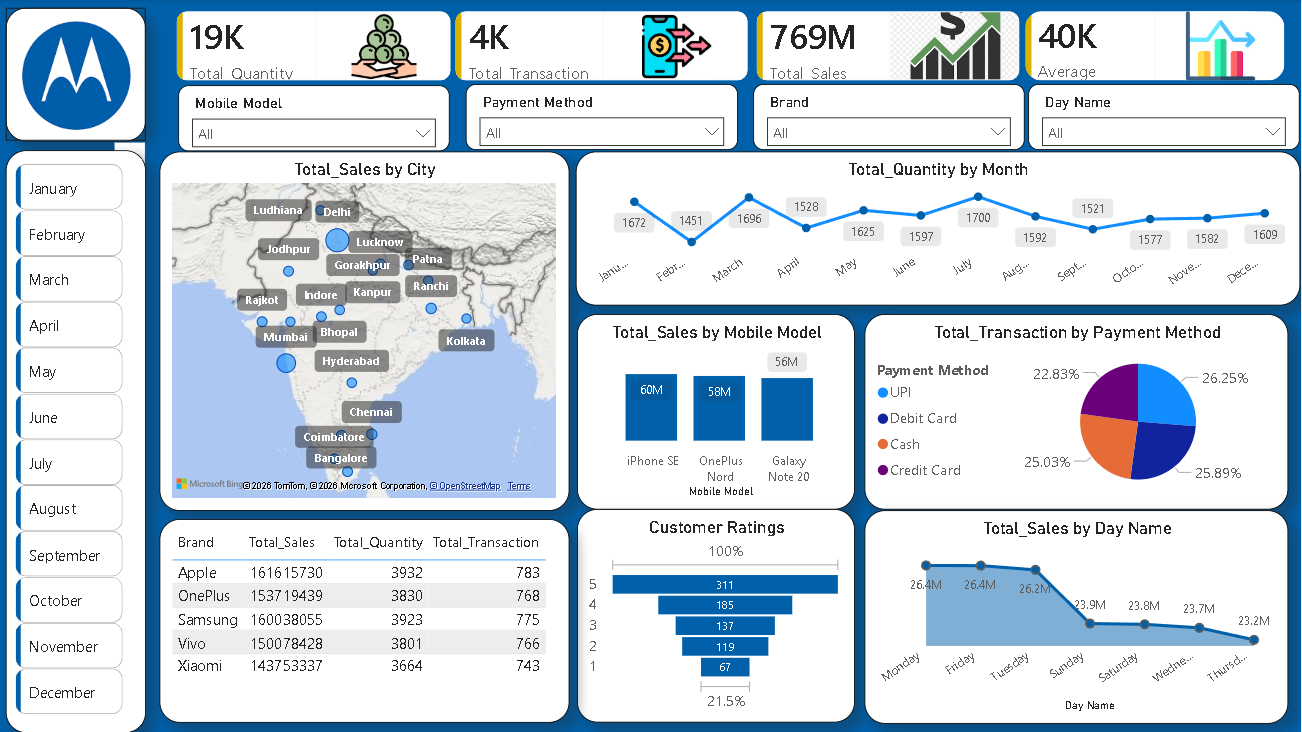

Layout of this report page (visuals, bound fields, positions):
{"tool":"powerbi","page":{"name":"Page 1","canvas":[1280,720],"ordinal":0},"visuals":[{"type":"shape","box":[8.6,8.6,137.4,131.3],"z":0},{"type":"image","box":[13.5,22.1,128.8,106.7],"z":1000},{"type":"shape","box":[8.6,148.5,137.4,571.8],"z":2000},{"type":"advancedSlicerVisual","fields":{"Values":["Sales_Data.Date.Variation.Date Hierarchy.Month"]},"box":[13.5,157.1,128.8,554.6],"z":3000},{"type":"cardVisual","fields":{"Data":["Sales_Data.Average"]},"box":[992.1,0,288.2,97.4],"z":4000},{"type":"cardVisual","fields":{"Data":["Sales_Data.Total_Transaction"]},"box":[433.6,0,321.1,97.4],"z":5000},{"type":"cardVisual","fields":{"Data":["Sales_Data.Total_Quantity"]},"box":[159.2,0,303.3,97.4],"z":6000},{"type":"cardVisual","fields":{"Data":["Sales_Data.Total_Sales"]},"box":[728.6,0,292.3,97.4],"z":7000},{"type":"map","fields":{"Category":["Sales_Data.City"],"Size":["Sales_Data.Total_Sales"]},"box":[159.2,149.6,402.1,352.7],"z":8000},{"type":"lineChart","fields":{"Category":["Sales_Data.Date.Variation.Date Hierarchy.Month","Sales_Data.Date.Variation.Date Hierarchy.Day"],"Y":["Sales_Data.Total_Quantity"]},"box":[568.1,149.6,710.8,150.9],"z":9000},{"type":"clusteredColumnChart","fields":{"Category":["Sales_Data.Mobile Model"],"Y":["Sales_Data.Total_Sales"]},"box":[569.5,308.7,273.1,192.1],"z":10000},{"type":"pieChart","fields":{"Category":["Sales_Data.Payment Method"],"Y":["Sales_Data.Total_Transaction"]},"box":[852.1,308.7,415.8,192.1],"z":11000},{"type":"funnel","title":"Customer Ratings","fields":{"Category":["Sales_Data.Customer Ratings"],"Y":["CountNonNull(Sales_Data.Customer Ratings)"]},"box":[569.5,500.9,273.1,209.9],"z":12000},{"type":"areaChart","fields":{"Category":["Sales_Data.Day Name"],"Y":["Sales_Data.Total_Sales"]},"box":[852.1,502.2,415.8,209.9],"z":13000},{"type":"tableEx","fields":{"Values":["Sales_Data.Brand","Sales_Data.Total_Sales","Sales_Data.Total_Quantity","Sales_Data.Total_Transaction"]},"box":[159.2,510.5,402.1,200.3],"z":14000},{"type":"slicer","fields":{"Values":["Sales_Data.Mobile Model"]},"box":[178.4,85.1,266.2,64.5],"z":16000},{"type":"slicer","fields":{"Values":["Sales_Data.Payment Method"]},"box":[459.7,83.7,267.6,64.5],"z":17000},{"type":"slicer","fields":{"Values":["Sales_Data.Brand"]},"box":[742.4,83.7,266.2,64.5],"z":18000},{"type":"slicer","fields":{"Values":["Sales_Data.Day Name"]},"box":[1012.7,83.7,266.2,64.5],"z":19000}]}

Visuals, with their boxes in screenshot pixels (x1, y1, x2, y2), scaled from the page's 1280x720 canvas onto the 1302x732 screenshot:
shape: (x1=9, y1=9, x2=149, y2=142)
image: (x1=14, y1=22, x2=145, y2=131)
shape: (x1=9, y1=151, x2=149, y2=731)
advancedSlicerVisual - Sales_Data.Date.Variation.Date Hierarchy.Month: (x1=14, y1=160, x2=145, y2=724)
cardVisual - Sales_Data.Average: (x1=1009, y1=0, x2=1301, y2=99)
cardVisual - Sales_Data.Total_Transaction: (x1=441, y1=0, x2=768, y2=99)
cardVisual - Sales_Data.Total_Quantity: (x1=162, y1=0, x2=470, y2=99)
cardVisual - Sales_Data.Total_Sales: (x1=741, y1=0, x2=1038, y2=99)
map - Sales_Data.City x Sales_Data.Total_Sales: (x1=162, y1=152, x2=571, y2=511)
lineChart - Sales_Data.Date.Variation.Date Hierarchy.Month x Sales_Data.Date.Variation.Date Hierarchy.Day: (x1=578, y1=152, x2=1301, y2=306)
clusteredColumnChart - Sales_Data.Mobile Model x Sales_Data.Total_Sales: (x1=579, y1=314, x2=857, y2=509)
pieChart - Sales_Data.Payment Method x Sales_Data.Total_Transaction: (x1=867, y1=314, x2=1290, y2=509)
"Customer Ratings" funnel: (x1=579, y1=509, x2=857, y2=723)
areaChart - Sales_Data.Day Name x Sales_Data.Total_Sales: (x1=867, y1=511, x2=1290, y2=724)
tableEx - Sales_Data.Brand x Sales_Data.Total_Sales: (x1=162, y1=519, x2=571, y2=723)
slicer - Sales_Data.Mobile Model: (x1=181, y1=87, x2=452, y2=152)
slicer - Sales_Data.Payment Method: (x1=468, y1=85, x2=740, y2=151)
slicer - Sales_Data.Brand: (x1=755, y1=85, x2=1026, y2=151)
slicer - Sales_Data.Day Name: (x1=1030, y1=85, x2=1301, y2=151)
